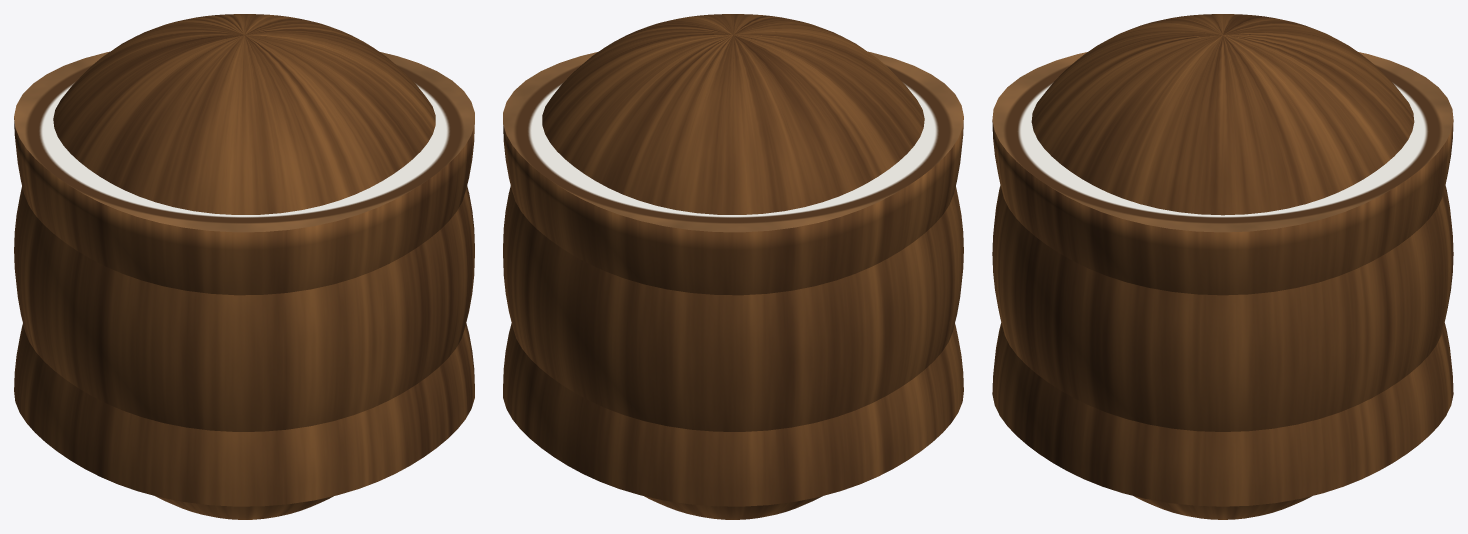
Rendered from coconut.glb.
3 renders of one model, left to right at view 1: azimuth 30°, elevation 25°; view 2: azimuth 150°, elevation 25°; view 3: azimuth 270°, elevation 25°, orthographic.
Visible parts, largest first — view 1: whole, bot, top; view 2: whole, bot, top; view 3: whole, bot, top.
Boxes of the visible parts, bbox=[...] form: whole: bbox=[14, 14, 474, 519]; bot: bbox=[14, 51, 474, 295]; top: bbox=[14, 323, 474, 506]; whole: bbox=[503, 14, 963, 519]; bot: bbox=[503, 51, 963, 295]; top: bbox=[503, 323, 963, 506]; whole: bbox=[992, 14, 1453, 519]; bot: bbox=[992, 52, 1453, 295]; top: bbox=[992, 323, 1453, 506].
Size of the model in its own units: 0.72 by 0.8 by 0.7273.
Materials: 2 (2 with a texture image).
